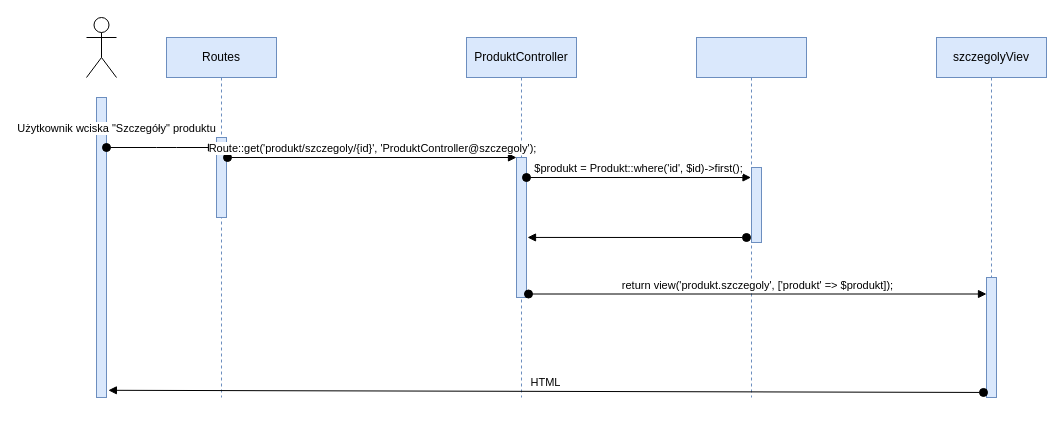
Some shapes in this 1064 by 421 pixel diagram are drawn without their labels. Each missing label, with the centre of its shape:
Baza: (x=751, y=217)
Użytkownik: (x=101, y=47)
